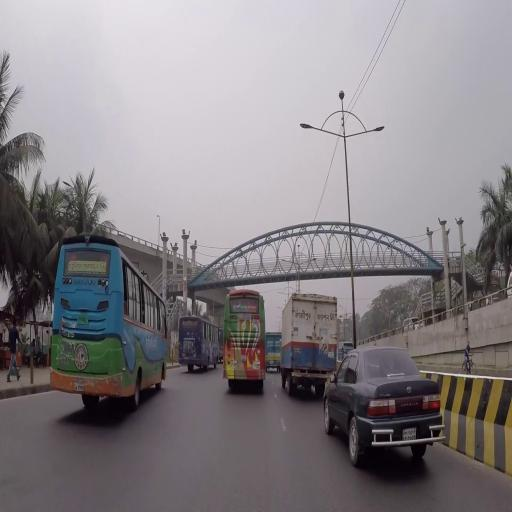bicycle: (463, 341, 478, 376)
bus: (50, 234, 170, 413), (223, 289, 268, 393), (178, 315, 221, 373)
car: (323, 347, 448, 470)
pickup: (282, 292, 339, 396), (266, 331, 283, 371)
